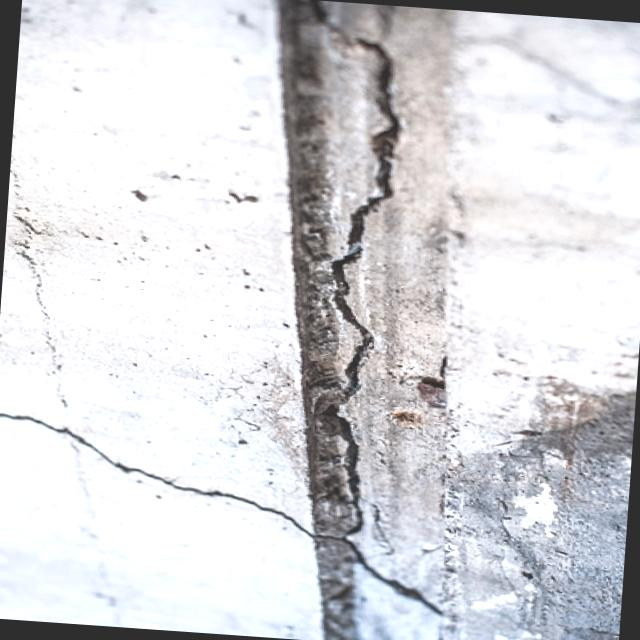crack: (0, 407, 458, 640), (268, 1, 406, 435), (0, 169, 106, 469)
